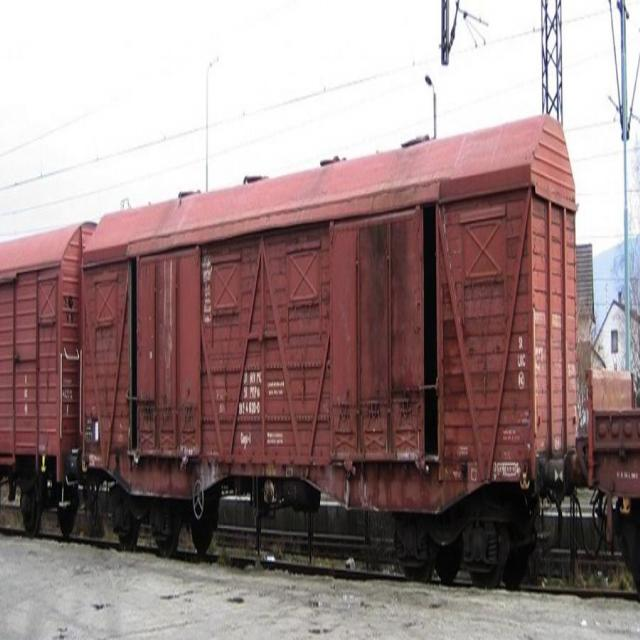boxcar: (82, 94, 588, 568), (0, 213, 92, 554)
